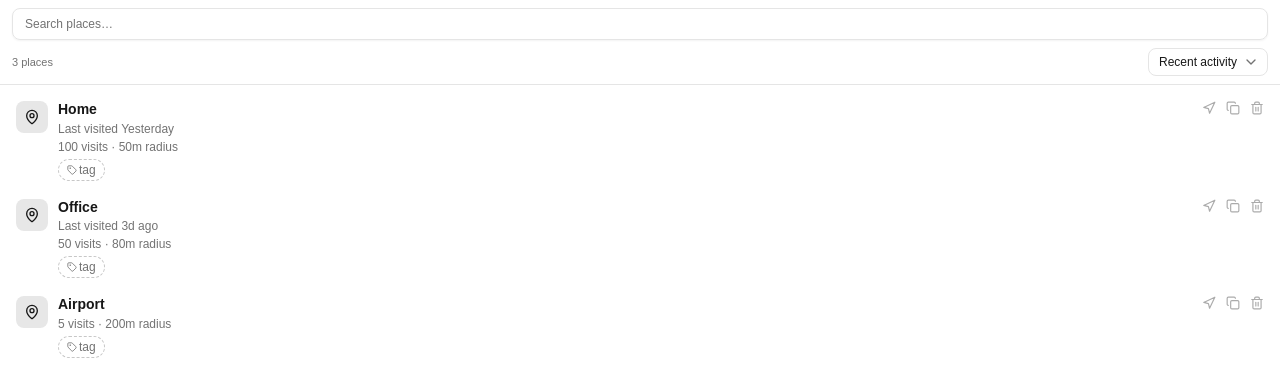
PlacesPanel › sends q= to the server after the search input debounces
This screenshot has width=1280, height=375.
Expected: the text "Home" is shown, [58,101,97,117]
In the field labelled "Search places": (640, 24) [12,8,1268,40], type "off"
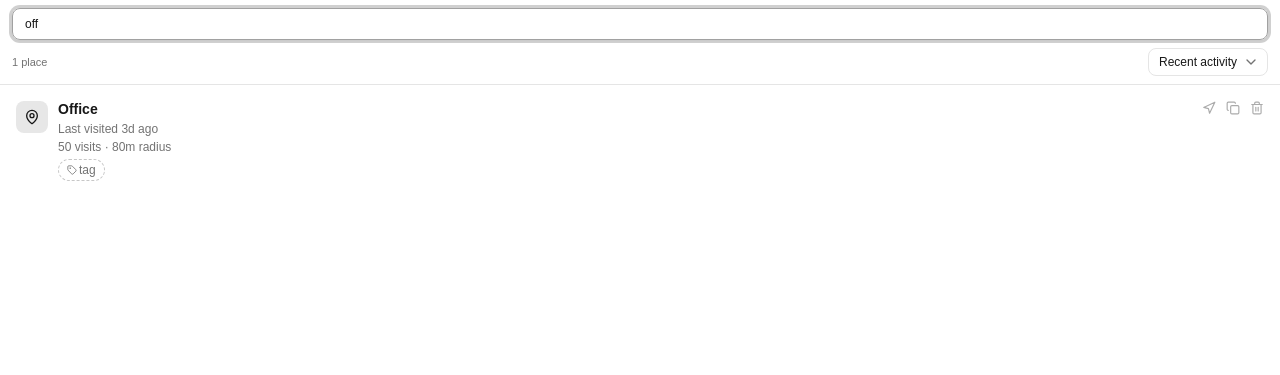
Expected: the text "Office" is shown, [58,101,98,117]
Result: the button "Home" is gone
Result: the button "Airport" is gone
